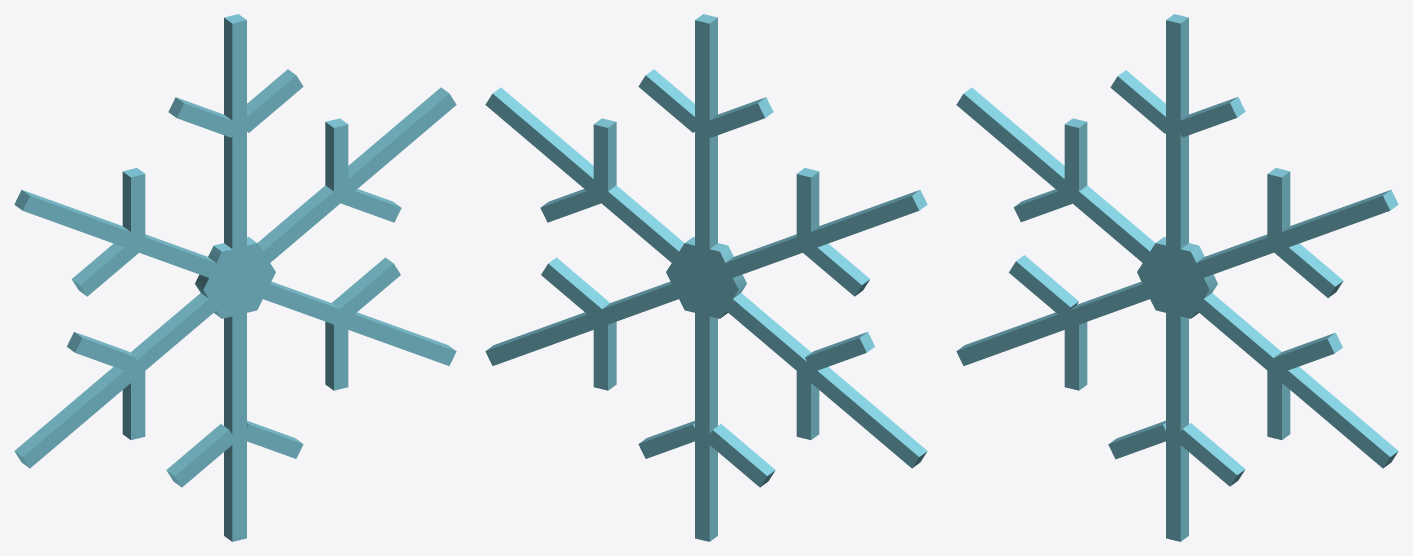
The model's file is Ice_power.fbx.
3 views of the same model, side by side, from view 1: azimuth 30°, elevation 25°; view 2: azimuth 150°, elevation 25°; view 3: azimuth 330°, elevation 25° (orthographic).
Visible parts, largest first — view 1: pCube7, pCube5, pCube2, pCube3, pCube1, pCube4, pCube6, pCube12, pCube19, pCube14, pCube15, pCube10 (+7 smaller); view 2: pCube7, pCube5, pCube2, pCube3, pCube4, pCube1, pCube6, pCube12, pCube14, pCube19, pCube17, pCube10 (+7 smaller); view 3: pCube6, pCube4, pCube2, pCube3, pCube5, pCube1, pCube7, pCube11, pCube20, pCube14, pCube13, pCube16 (+7 smaller).
Boxes of the visible parts, bbox=[...] form: pCube7: bbox=[14, 293, 218, 468]; pCube5: bbox=[257, 87, 456, 262]; pCube2: bbox=[224, 14, 246, 248]; pCube3: bbox=[224, 313, 246, 541]; pCube1: bbox=[195, 237, 275, 318]; pCube4: bbox=[14, 190, 216, 277]; pCube6: bbox=[263, 281, 456, 365]; pCube12: bbox=[166, 424, 235, 487]; pCube19: bbox=[332, 257, 400, 320]; pCube14: bbox=[325, 118, 348, 191]; pCube15: bbox=[72, 240, 141, 296]; pCube10: bbox=[242, 69, 303, 132]; pCube7: bbox=[723, 293, 927, 468]; pCube5: bbox=[485, 87, 684, 264]; pCube2: bbox=[695, 14, 717, 248]; pCube3: bbox=[695, 313, 717, 541]; pCube4: bbox=[724, 190, 927, 278]; pCube1: bbox=[666, 237, 746, 318]; pCube6: bbox=[485, 281, 681, 365]; pCube12: bbox=[706, 424, 775, 487]; pCube14: bbox=[593, 118, 616, 193]; pCube19: bbox=[541, 257, 609, 320]; pCube17: bbox=[593, 321, 616, 390]; pCube10: bbox=[638, 69, 699, 132]; pCube6: bbox=[1194, 293, 1398, 468]; pCube4: bbox=[956, 87, 1155, 264]; pCube2: bbox=[1166, 14, 1188, 251]; pCube3: bbox=[1166, 310, 1188, 541]; pCube5: bbox=[1195, 189, 1398, 278]; pCube1: bbox=[1137, 237, 1217, 318]; pCube7: bbox=[956, 281, 1149, 365]; pCube11: bbox=[1175, 423, 1245, 486]; pCube20: bbox=[1009, 255, 1078, 318]; pCube14: bbox=[1267, 168, 1290, 242]; pCube13: bbox=[1274, 242, 1343, 297]; pCube16: bbox=[1064, 118, 1087, 191].
Bounding box in the file's own units: 2.98 × 3.4 × 0.1.
